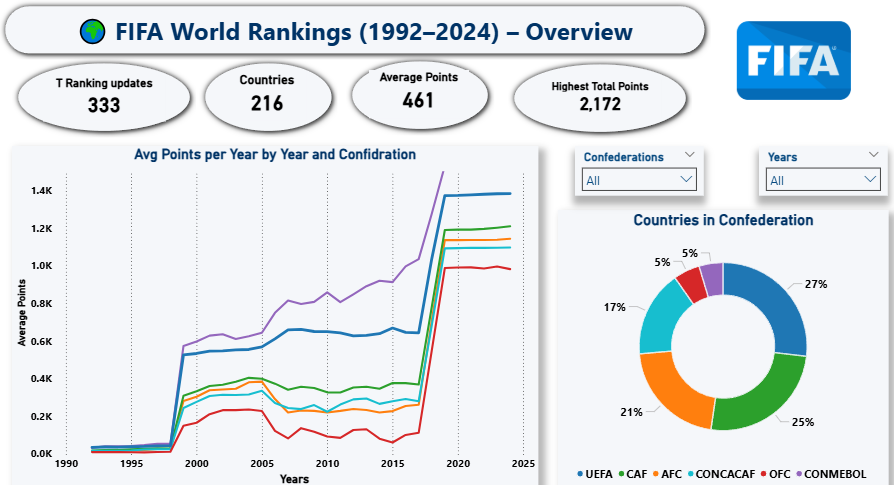

This screenshot's page, from the dashboard's own definition file:
{"tool":"powerbi","page":{"name":"Overview","canvas":[1280,720],"ordinal":1},"visuals":[{"type":"shape","box":[727.3,82.3,263,114.6],"z":0},{"type":"shape","box":[285.1,80.8,198.4,114.6],"z":1000},{"type":"shape","box":[0,0,1016.8,85.2],"z":2000},{"type":"slicer","fields":{"Values":["DIM_DATE.YEAR"]},"box":[1085.9,208.7,183.7,70.5],"z":3000},{"type":"shape","box":[19.1,82,263,114.6],"z":4000},{"type":"shape","box":[495.2,77.9,211.6,114.6],"z":5000},{"type":"card","title":"Countries","fields":{"Values":["DIM_CONFEDERATION.Total Countries"]},"box":[327.7,102.9,111.7,69.1],"z":6000},{"type":"card","title":"Highest Total Points","fields":{"Values":["DIM_CONFEDERATION.Highest Points Ever"]},"box":[771.4,113.1,174.9,55.8],"z":7000},{"type":"card","title":"Average Points","fields":{"Values":["DIM_CONFEDERATION.Average Points"]},"box":[529,99.9,142.5,69.1],"z":8000},{"type":"card","title":"T Ranking updates","fields":{"Values":["DIM_CONFEDERATION.Total Ranking Updates"]},"box":[63.2,108.7,174.9,64.7],"z":9000},{"type":"donutChart","title":"Countries in Confederation ","fields":{"Category":["DIM_CONFEDERATION.CONFEDERATION"],"Y":["DIM_CONFEDERATION.Countries per Confederation"]},"box":[797.9,299.8,471.7,398.2],"z":10000},{"type":"lineChart","title":"Avg Points per Year by Year and Confidration","fields":{"Y":["DIM_CONFEDERATION.Avg Points per Year"],"Category":["DIM_DATE.YEAR"],"Series":["DIM_CONFEDERATION.CONFEDERATION"]},"box":[19.1,208.7,752.3,489.3],"z":11000},{"type":"slicer","fields":{"Values":["DIM_CONFEDERATION.CONFEDERATION"]},"box":[822.9,208.7,183.7,70.5],"z":12000},{"type":"image","box":[990,0,290,172.9],"z":12001}]}

Visuals, with their boxes on the page's 1280x720 design canvas (x1, y1, x2, y2). These are canvas units, not pixel positions in the 894x485 screenshot, which may show the page scaled, cropped or inside an application window:
shape: select_region(727, 82, 990, 197)
shape: select_region(285, 81, 484, 195)
shape: select_region(0, 0, 1017, 85)
slicer - DIM_DATE.YEAR: select_region(1086, 209, 1270, 279)
shape: select_region(19, 82, 282, 197)
shape: select_region(495, 78, 707, 192)
"Countries" card: select_region(328, 103, 439, 172)
"Highest Total Points" card: select_region(771, 113, 946, 169)
"Average Points" card: select_region(529, 100, 672, 169)
"T Ranking updates" card: select_region(63, 109, 238, 173)
"Countries in Confederation " donutChart: select_region(798, 300, 1270, 698)
"Avg Points per Year by Year and Confidration" lineChart: select_region(19, 209, 771, 698)
slicer - DIM_CONFEDERATION.CONFEDERATION: select_region(823, 209, 1007, 279)
image: select_region(990, 0, 1280, 173)
